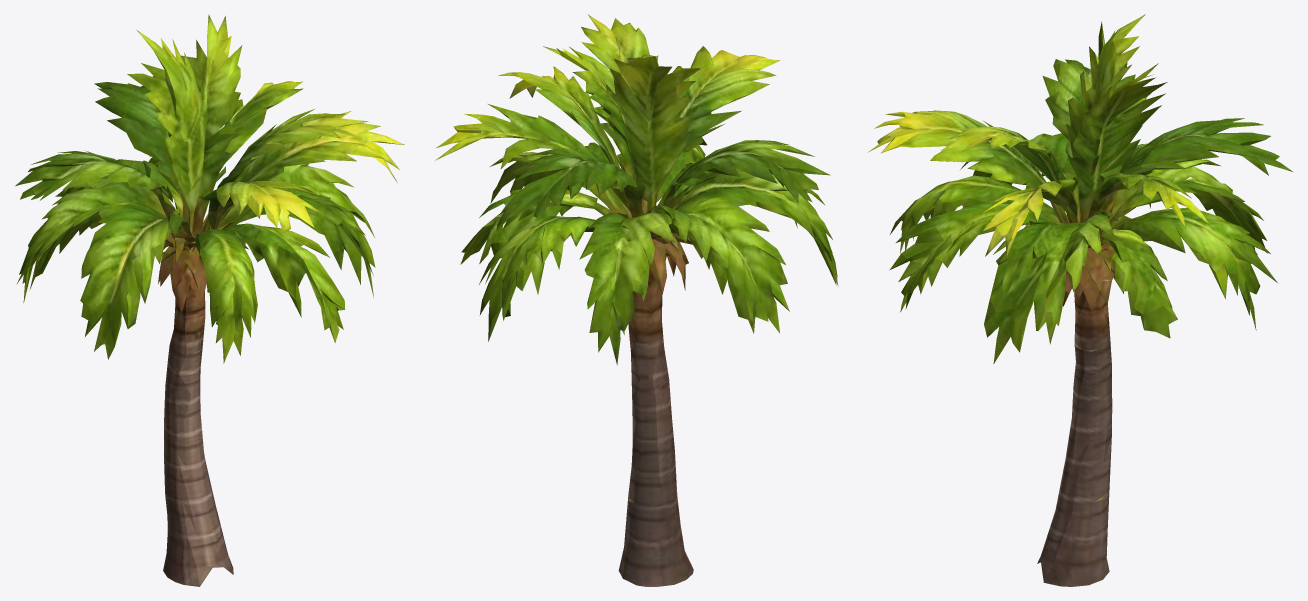
File: meshy-palm-m0.glb
3 renders of one model, left to right at view 1: azimuth 30°, elevation 25°; view 2: azimuth 150°, elevation 25°; view 3: azimuth 270°, elevation 25°, orthographic. The views are drawn at different scales.
Parts seen in each view (by area): view 1: mesh_node; view 2: mesh_node; view 3: mesh_node.
Part boxes in pixels (<box>): mesh_node: <box>15,14,404,586</box>; mesh_node: <box>435,14,838,586</box>; mesh_node: <box>867,14,1292,586</box>.
Size of the model in its own units: 1.3 by 1.9 by 1.35.
1 material, 1 textured.
